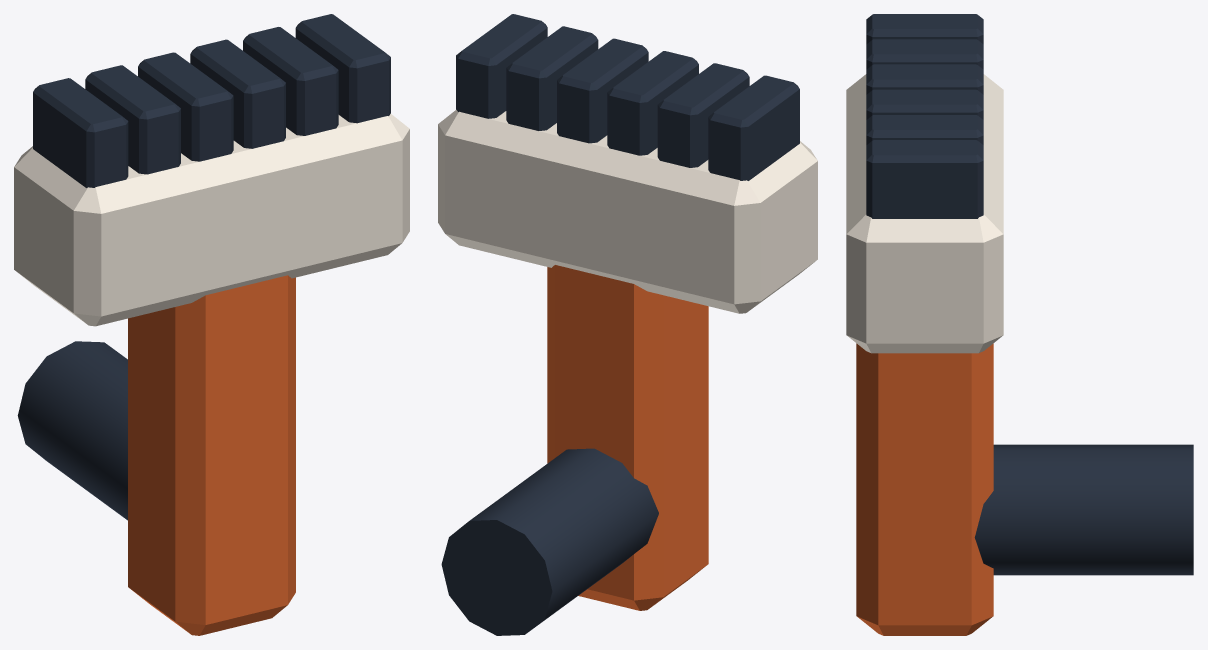
Rendered from dust_brush.glb.
3 renders of one model, left to right at view 1: azimuth 30°, elevation 25°; view 2: azimuth 150°, elevation 25°; view 3: azimuth 270°, elevation 25°, orthographic. The views are drawn at different scales.
Visible parts, largest first — view 1: dust_brush_geo; view 2: dust_brush_geo; view 3: dust_brush_geo.
Boxes of the visible parts, left/top/right/bottom form: dust_brush_geo: left=14, top=14, right=409, bottom=635; dust_brush_geo: left=438, top=14, right=817, bottom=635; dust_brush_geo: left=846, top=14, right=1193, bottom=635.
Size of the model in its own units: 0.192 by 0.295 by 0.1745.
